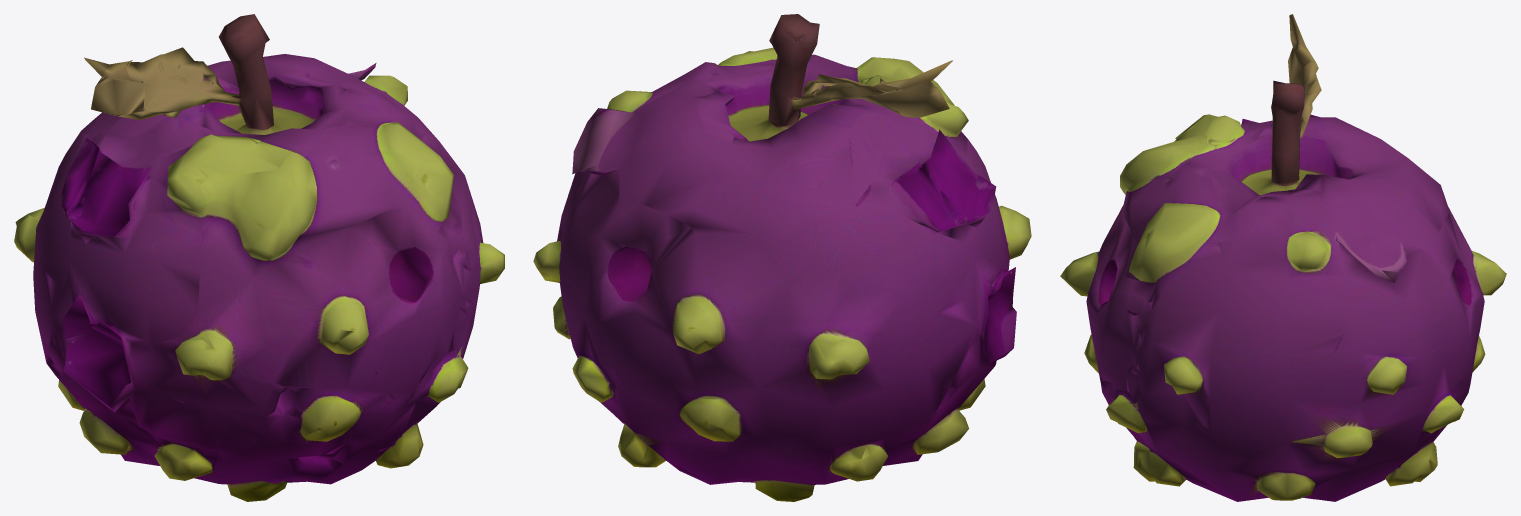
File: utility_poisoned_fruit_3000.glb
3 renders of one model, left to right at view 1: azimuth 30°, elevation 25°; view 2: azimuth 150°, elevation 25°; view 3: azimuth 270°, elevation 25°, orthographic. The views are drawn at different scales.
Parts seen in each view (by area): view 1: tripo_node_705fbecc-6b64-4c08-9c97-d4c3f84fd9c3; view 2: tripo_node_705fbecc-6b64-4c08-9c97-d4c3f84fd9c3; view 3: tripo_node_705fbecc-6b64-4c08-9c97-d4c3f84fd9c3.
Part boxes in pixels (left/top/right/bottom): tripo_node_705fbecc-6b64-4c08-9c97-d4c3f84fd9c3: left=14, top=14, right=504, bottom=501; tripo_node_705fbecc-6b64-4c08-9c97-d4c3f84fd9c3: left=533, top=14, right=1031, bottom=501; tripo_node_705fbecc-6b64-4c08-9c97-d4c3f84fd9c3: left=1060, top=14, right=1506, bottom=501.
Size of the model in its own units: 0.8951 by 0.9823 by 0.9846.
Materials: 1 (1 with a texture image).
